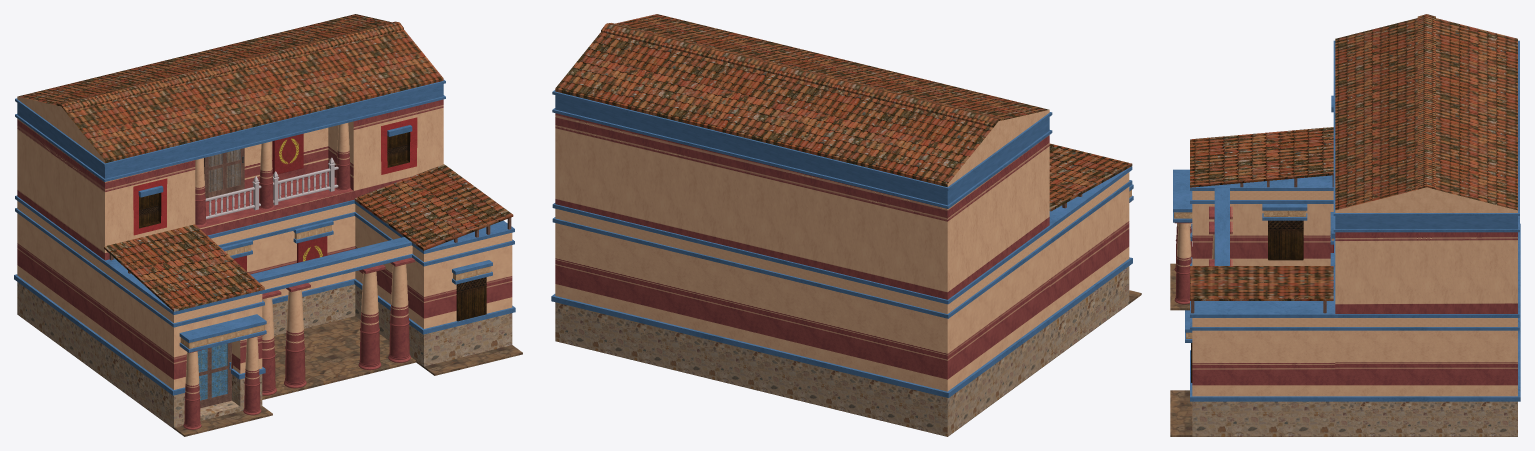
File: RC_Small_Building_06.gltf
3 views of the same model, side by side, from view 1: azimuth 30°, elevation 25°; view 2: azimuth 150°, elevation 25°; view 3: azimuth 270°, elevation 25° (orthographic). The views are drawn at different scales.
Parts seen in each view (by area): view 1: RC_Small_Building_06_Main, RC_Small_Building_06_Right, RC_Small_Building_06_part1, RC_Small_Buliding_06_Pillar (×9), RC_Small_Building_06_part23, RC_Small_Building_06_Floor, RC_Small_Buliding_06_Pillar_Support, RC_Small_Building_06_part8, RC_Small_Building_06_part5; view 2: RC_Small_Building_06_Main, RC_Small_Building_06_part1, RC_Small_Building_06_part23, RC_Small_Building_06_Floor; view 3: RC_Small_Building_06_Main, RC_Small_Building_06_Right, RC_Small_Building_06_part1, RC_Small_Building_06_part23, RC_Small_Building_06_Floor, RC_Small_Building_06_part9, RC_Small_Buliding_06_Pillar_Support, RC_Small_Buliding_06_Pillar, RC_Small_Building_06_part5, RC_Small_Building_06_part10.
Boxes of the visible parts, x1,y1,x2,y2 form: RC_Small_Building_06_Main: (14, 14, 445, 377); RC_Small_Building_06_Right: (354, 164, 515, 366); RC_Small_Building_06_part1: (102, 259, 265, 428); RC_Small_Buliding_06_Pillar (×9): (183, 123, 415, 429); RC_Small_Building_06_part23: (104, 224, 264, 311); RC_Small_Building_06_Floor: (17, 314, 522, 436); RC_Small_Buliding_06_Pillar_Support: (250, 237, 412, 293); RC_Small_Building_06_part8: (197, 342, 231, 408); RC_Small_Building_06_part5: (179, 314, 266, 352); RC_Small_Building_06_Main: (551, 14, 1053, 436); RC_Small_Building_06_part1: (1049, 166, 1132, 361); RC_Small_Building_06_part23: (1049, 143, 1132, 211); RC_Small_Building_06_Floor: (555, 290, 1141, 436); RC_Small_Building_06_Main: (1330, 14, 1520, 436); RC_Small_Building_06_Right: (1185, 266, 1337, 436); RC_Small_Building_06_part1: (1190, 175, 1333, 265); RC_Small_Building_06_part23: (1190, 127, 1333, 187); RC_Small_Building_06_Floor: (1170, 263, 1517, 436); RC_Small_Building_06_part9: (1268, 220, 1303, 260); RC_Small_Buliding_06_Pillar_Support: (1214, 187, 1229, 265); RC_Small_Buliding_06_Pillar: (1174, 222, 1191, 304); RC_Small_Building_06_part5: (1173, 169, 1192, 222); RC_Small_Building_06_part10: (1262, 204, 1307, 220).
Bounding box in the file's own units: 16.14 × 10.89 × 13.75.
Materials: 63 (62 with a texture image).
